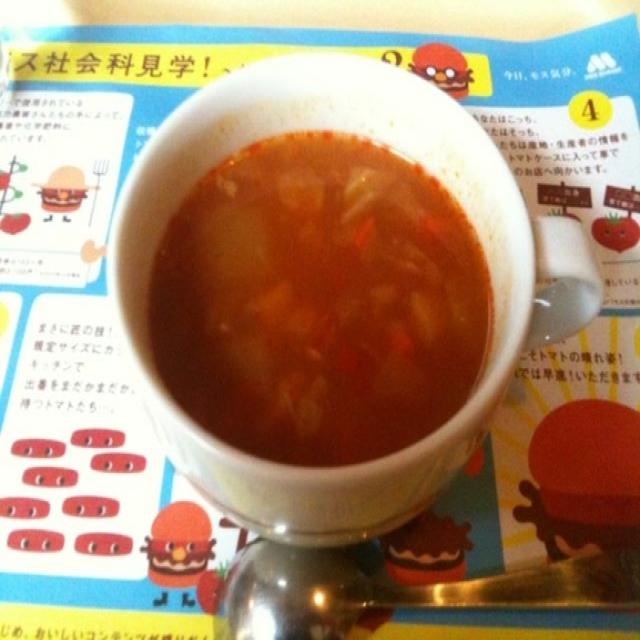蔬菜料理: (0, 22, 631, 522)
